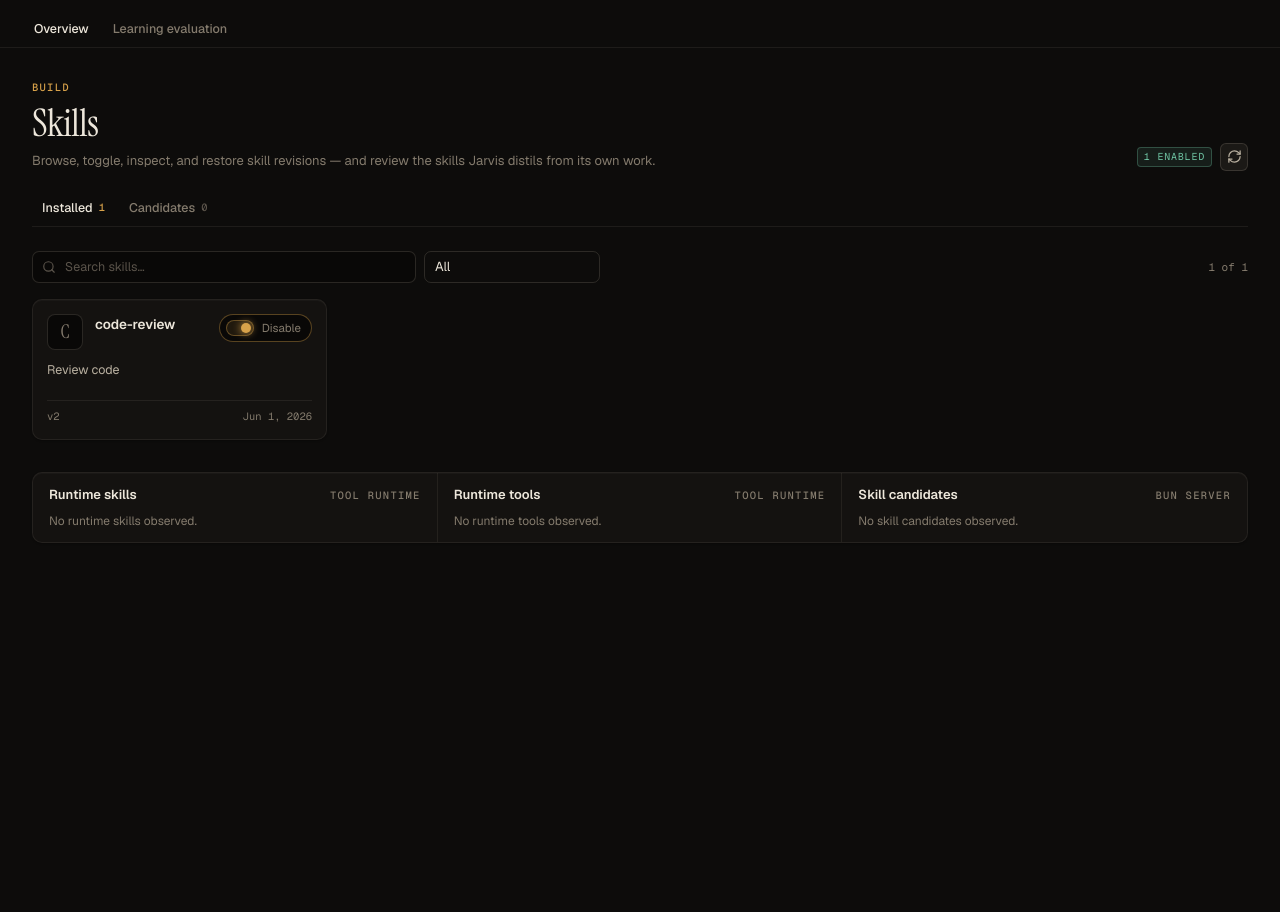
Test: SkillsPage native toggle coordination › retains confirmed enabled=true on rejection and retries from either surface
Click the button with aria-label "Inspect skill: code-review" at [135, 324], box [95,314,175,334]
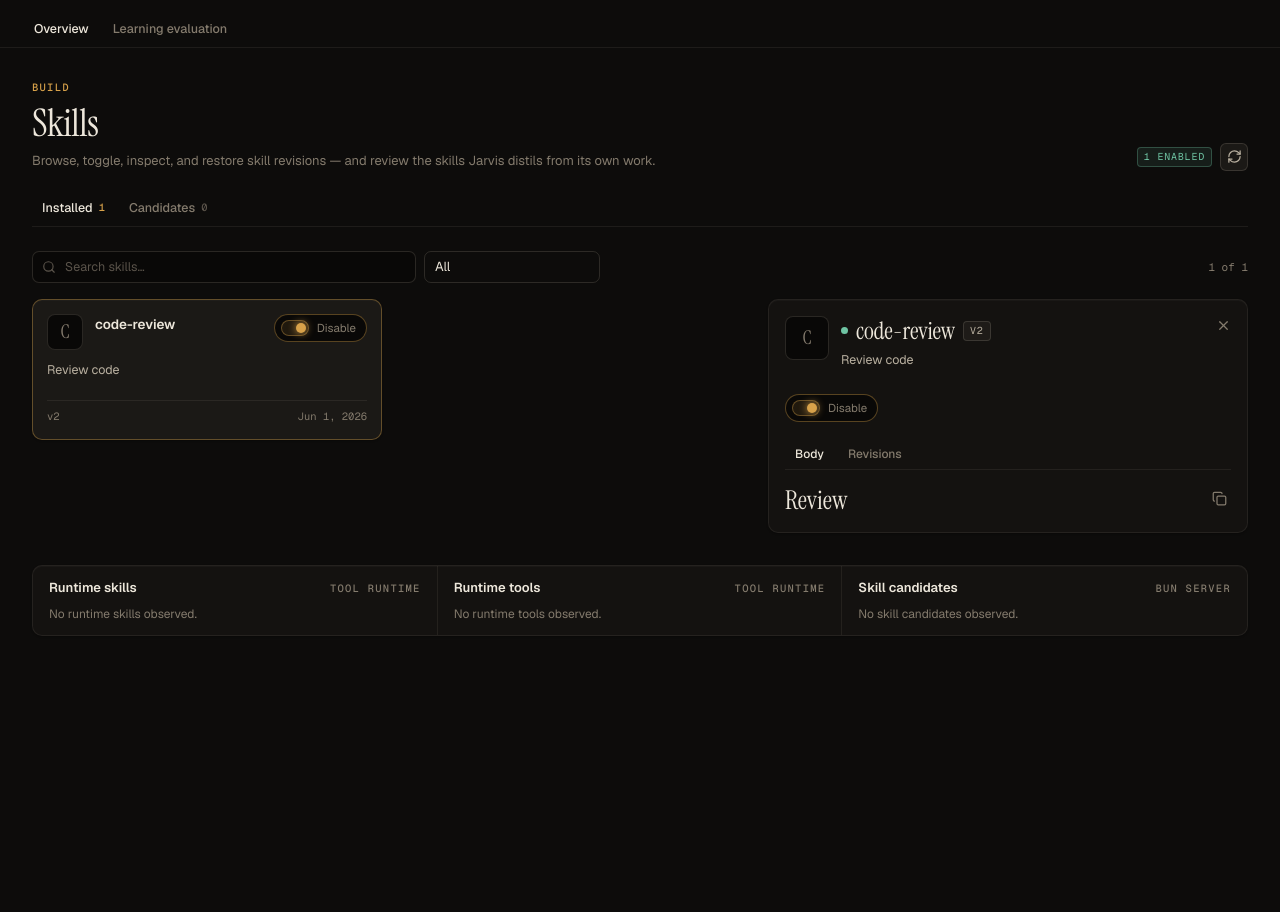
Click the 2nd button "Disable" at [832, 408], box [785,394,878,422]
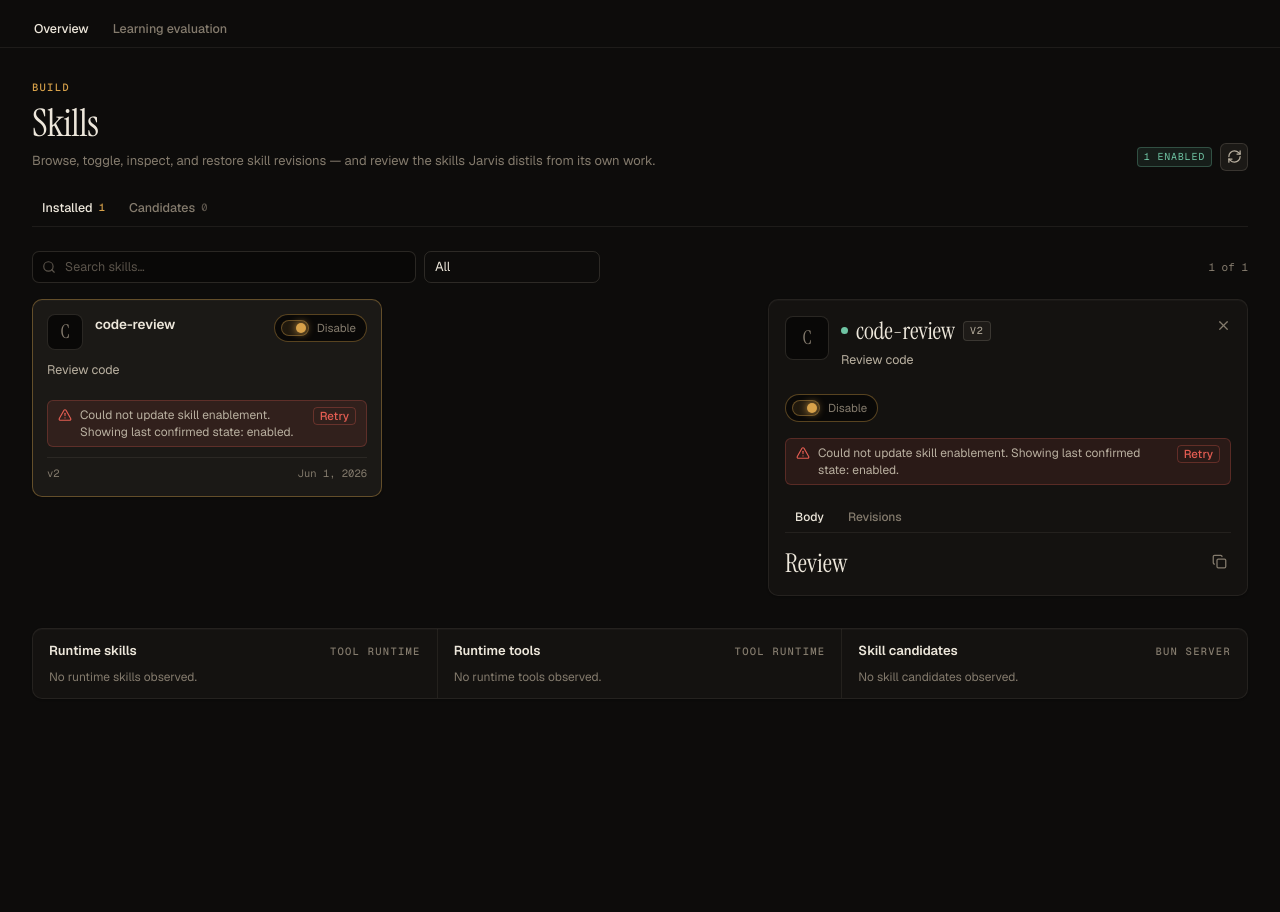
Check: the text "1 enabled" is shown, box [1144,149,1205,164]
Check: the 1st message shows "Could not update skill enablement. Showing last confirmed state", box [80,407,270,440]
Click the 1st button "Retry" at [334, 416], box [313,407,356,425]
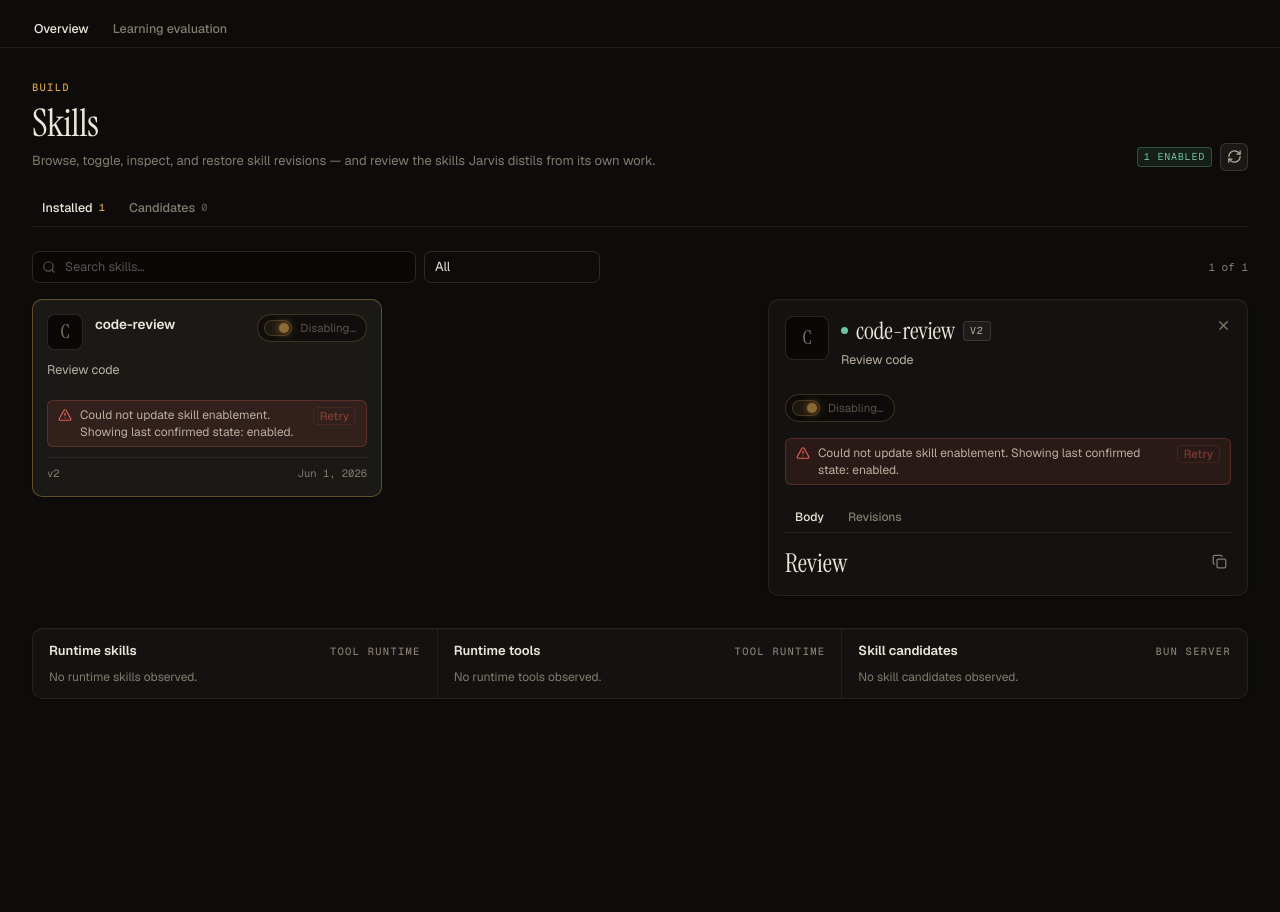
Click the 2nd button "Retry" at [1198, 454], box [1177,445,1220,463]
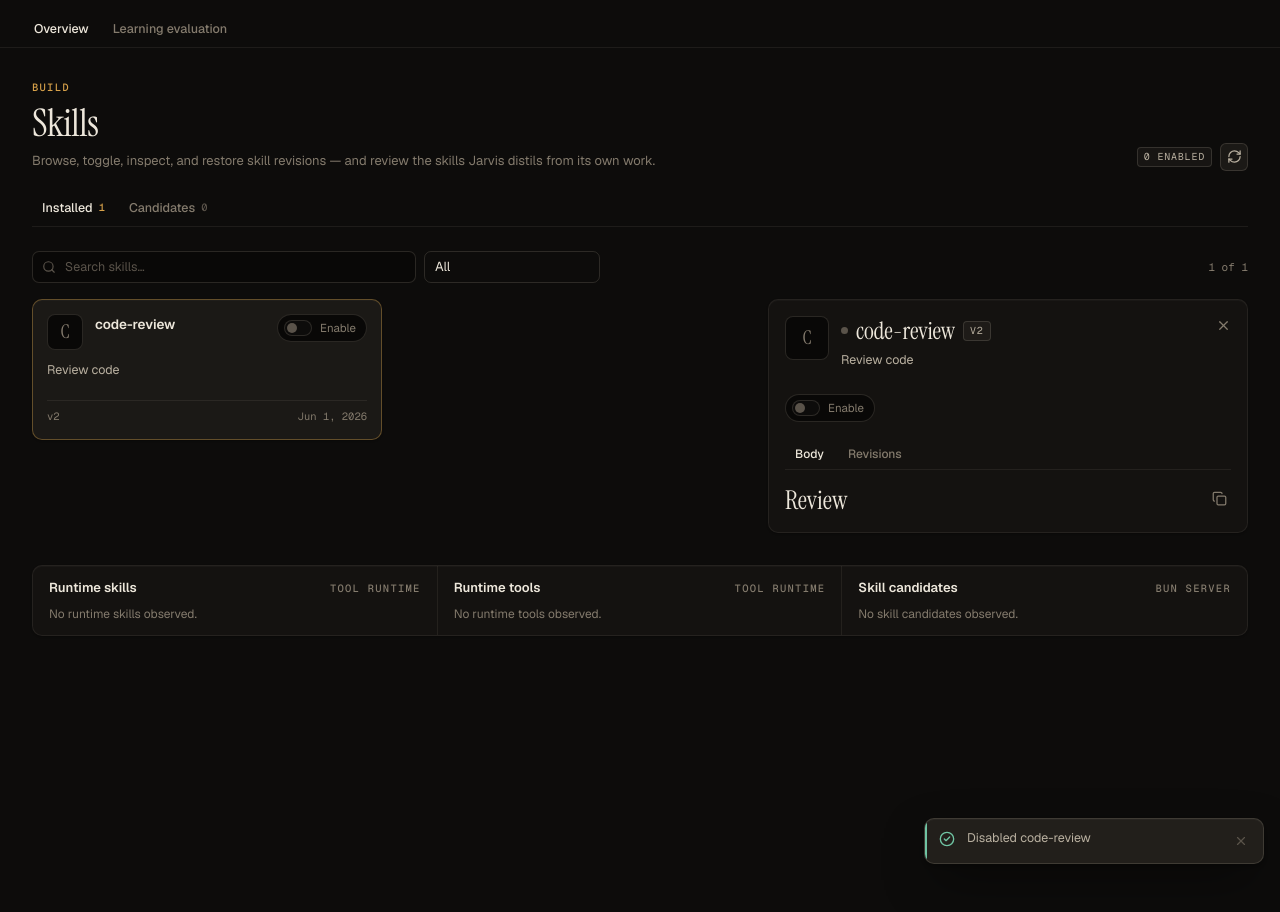
Check: the text "0 enabled" is shown, box [1144,149,1205,164]
